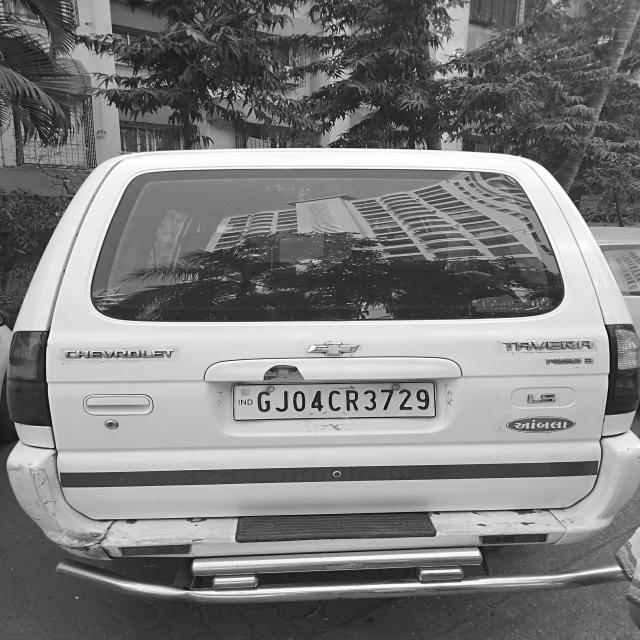car: (4, 142, 640, 609)
license-plate: (232, 384, 439, 418)
